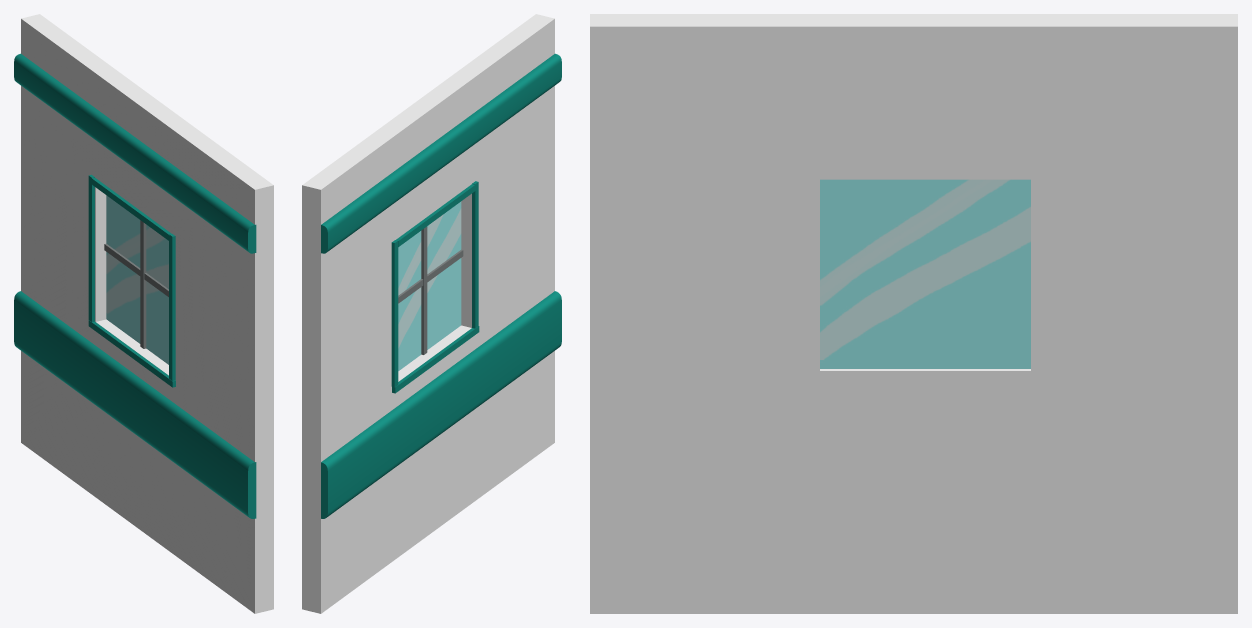
The model's file is ParedVentana.fbx.
3 renders of one model, left to right at view 1: azimuth 30°, elevation 25°; view 2: azimuth 150°, elevation 25°; view 3: azimuth 270°, elevation 25°, orthographic. The views are drawn at different scales.
Parts seen in each view (by area): view 1: Box031, Box032, Box033, Box036, Box039, Box041, Box037, Box042, Box040, Box038; view 2: Box031, Box032, Box033, Box036, Box041, Box039, Box037, Box042, Box040, Box038; view 3: Box031, Box036.
Part boxes in pixels (bbox=[...]): Box031: bbox=[21, 14, 273, 613]; Box032: bbox=[14, 291, 256, 518]; Box033: bbox=[14, 53, 256, 253]; Box036: bbox=[106, 195, 168, 364]; Box039: bbox=[169, 233, 175, 380]; Box041: bbox=[88, 174, 94, 322]; Box037: bbox=[140, 220, 146, 348]; Box042: bbox=[88, 320, 175, 387]; Box040: bbox=[92, 178, 170, 241]; Box038: bbox=[104, 243, 168, 296]; Box031: bbox=[302, 14, 554, 613]; Box032: bbox=[321, 291, 561, 518]; Box033: bbox=[321, 53, 561, 253]; Box036: bbox=[398, 201, 461, 370]; Box041: bbox=[391, 240, 398, 387]; Box039: bbox=[472, 181, 478, 328]; Box037: bbox=[421, 226, 427, 354]; Box042: bbox=[392, 326, 479, 393]; Box040: bbox=[396, 184, 476, 246]; Box038: bbox=[398, 249, 463, 303]; Box031: bbox=[590, 14, 1237, 613]; Box036: bbox=[820, 179, 1030, 368].
Bounding box in the file's own units: 9.54 × 150 × 150.
Materials: 4 (4 with a texture image).
